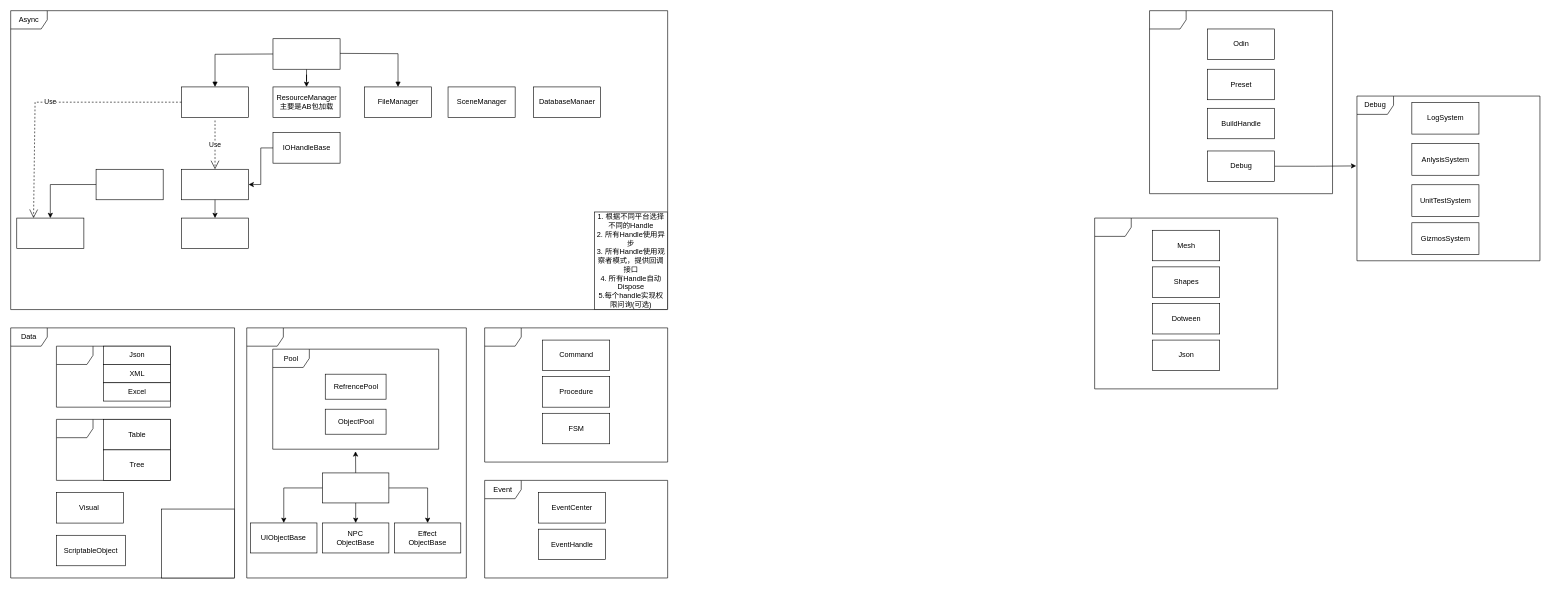
This 1551x589 diagram has some shape labels left out. Here are the shapes that lost their labels. From the top down, the box of each, then its label:
(272, 38, 340, 69): AsyncManagerBase
(181, 86, 249, 117): NetworkManager
(1149, 10, 1333, 194): Editor
(95, 169, 163, 200): IOAuthorityBase
(181, 169, 249, 200): NetworkHandle
(16, 217, 84, 249): NetworkAuthority
(181, 217, 249, 249): DownloadHandle
(1094, 217, 1278, 389): Static Tools
(56, 346, 170, 407): analysis
(484, 327, 668, 462): Logic
(56, 419, 170, 480): Format
(246, 327, 466, 578): Single
(322, 472, 389, 503): ObjectBase
(161, 508, 235, 578): 对于不同类型的数据的保存/加载/可视化/导入导出
